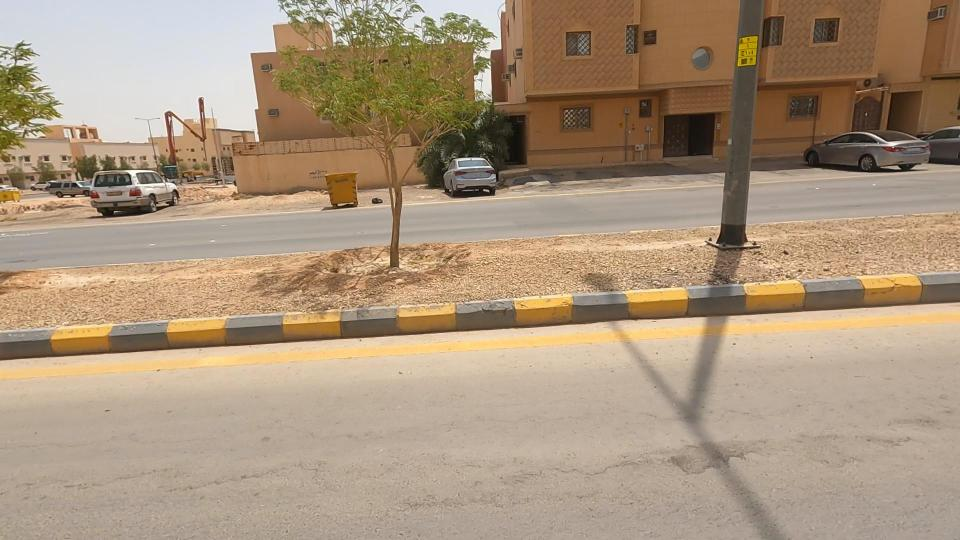CLUTTER_SIDEWALK: (0, 218, 416, 342), (367, 206, 775, 311)
